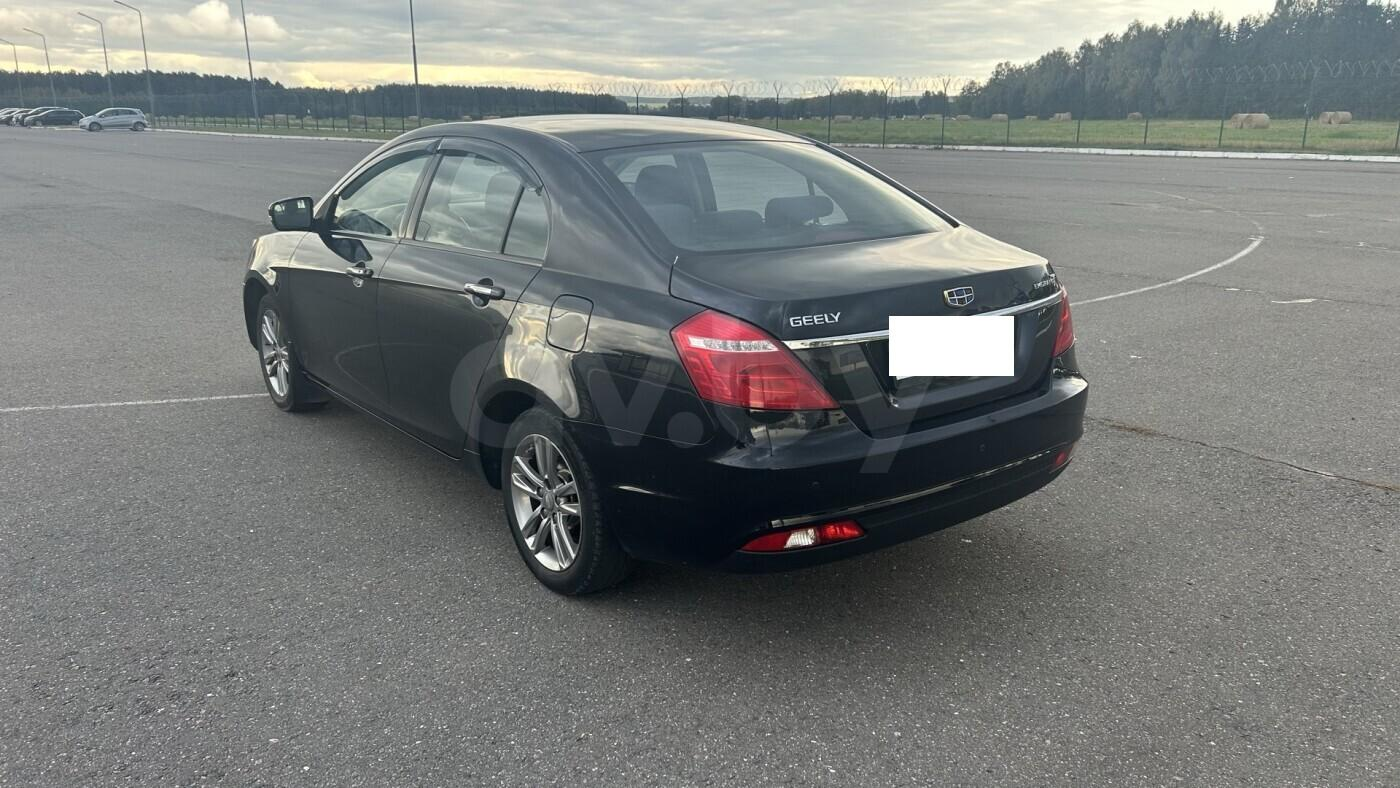Emgrand_2019-2021: (236, 115, 1087, 594)
